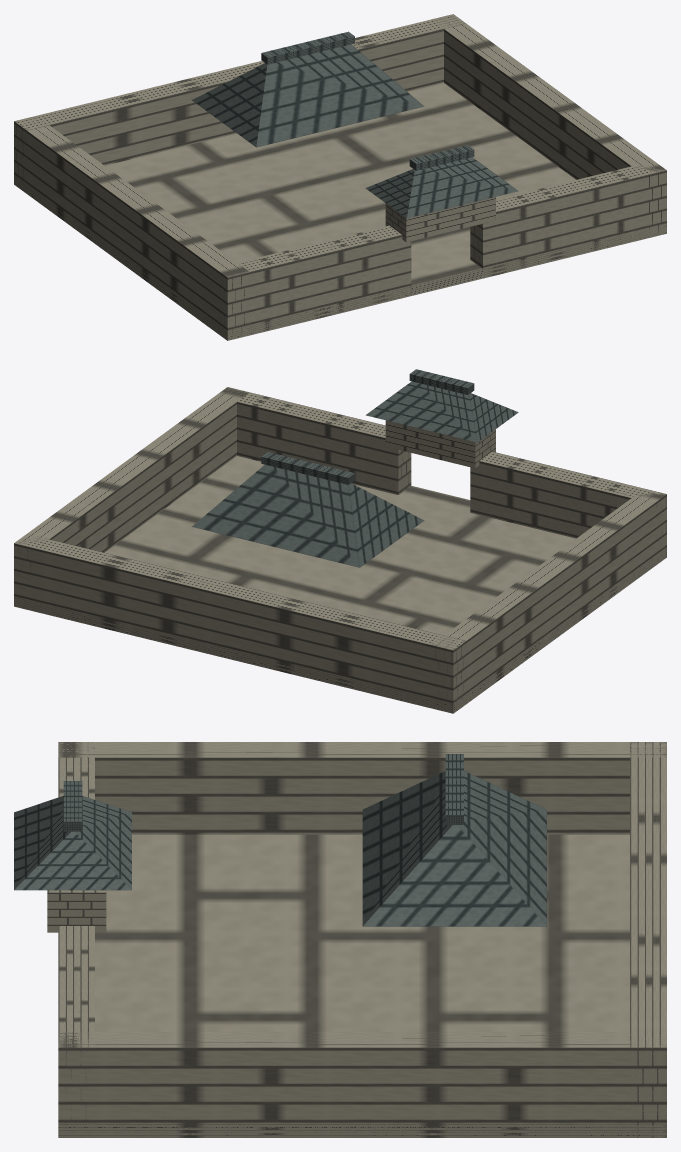
Rendered from city1-lod2.glb.
The picture shows the model from 3 angles, top to bottom: view 1: azimuth 30°, elevation 25°; view 2: azimuth 150°, elevation 25°; view 3: azimuth 270°, elevation 25°; orthographic projection. The views are drawn at different scales.
Bounding box in the file's own units: 1.96 × 0.6 × 1.77.
Materials: 1 (1 with a texture image).
